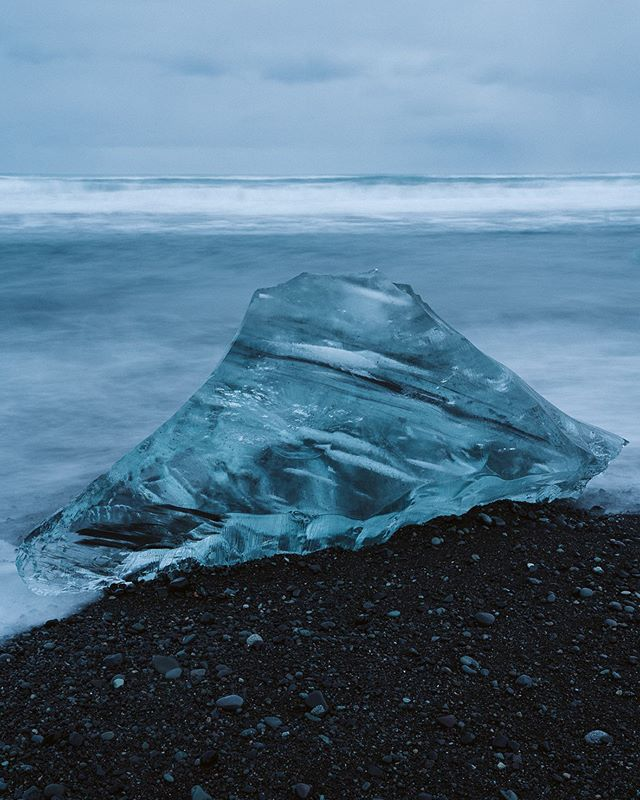sea: (1, 186, 640, 559)
sky: (14, 1, 640, 168)
